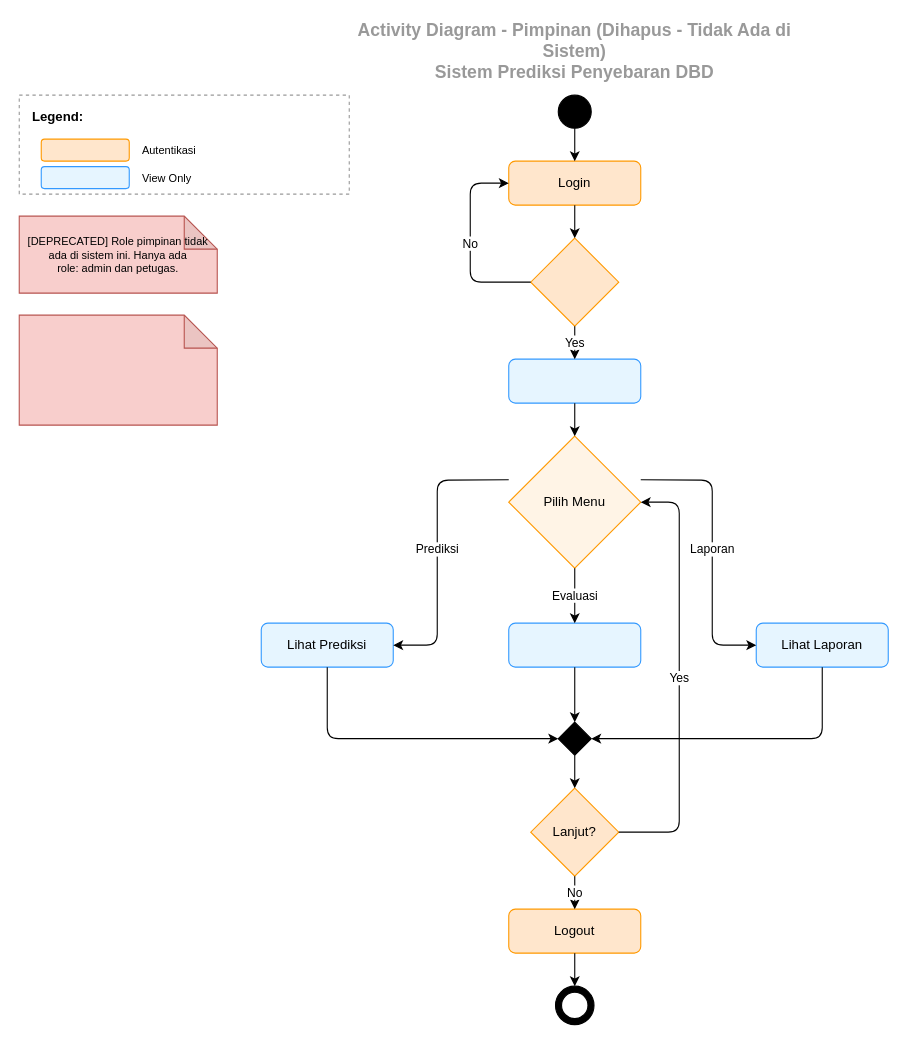
Some shapes in this 908 by 1044 pixel diagram are drawn without their labels. The shapes that lost their labels are listed below. From the top down, each one's centre as x and y in pixels, then its label:
pixel 574 281: Valid?
pixel 117 369: [DEPRECATED] Diagram ini tidak berlaku. Role pimpinan telah dihapus dari sistem.
pixel 574 380: Akses Dashboard
pixel 574 644: Lihat Evaluasi Model
